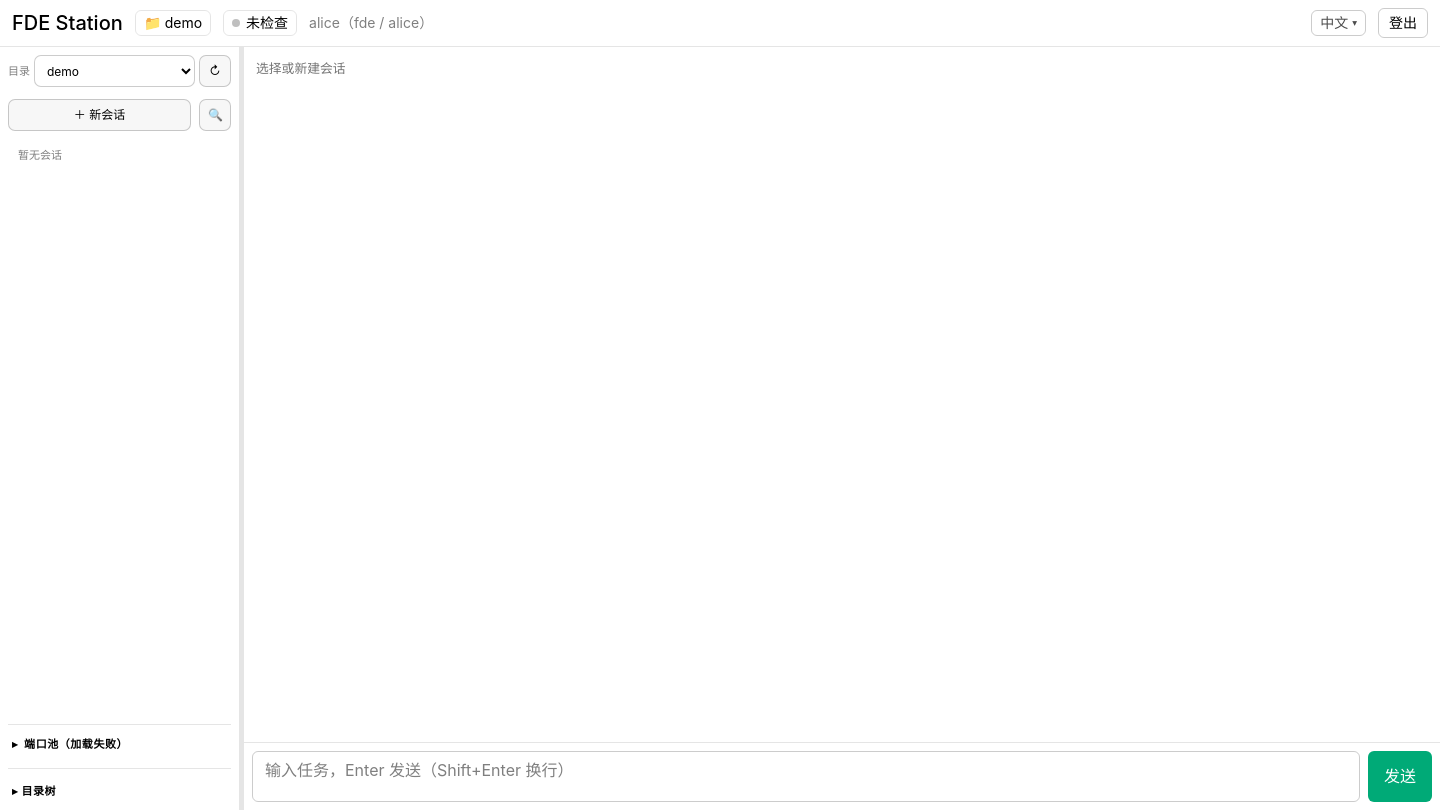
Test case: 工作台 · 预览端口区块 › 列表加载失败：折叠条标出「加载失败」，展开显示错误码 + 原文（重试按钮已退场）
The width and height of the screenshot is (1440, 810).
Click the button with test id "preview-ports-toggle".
click(120, 744)  # box [8,733,231,756]
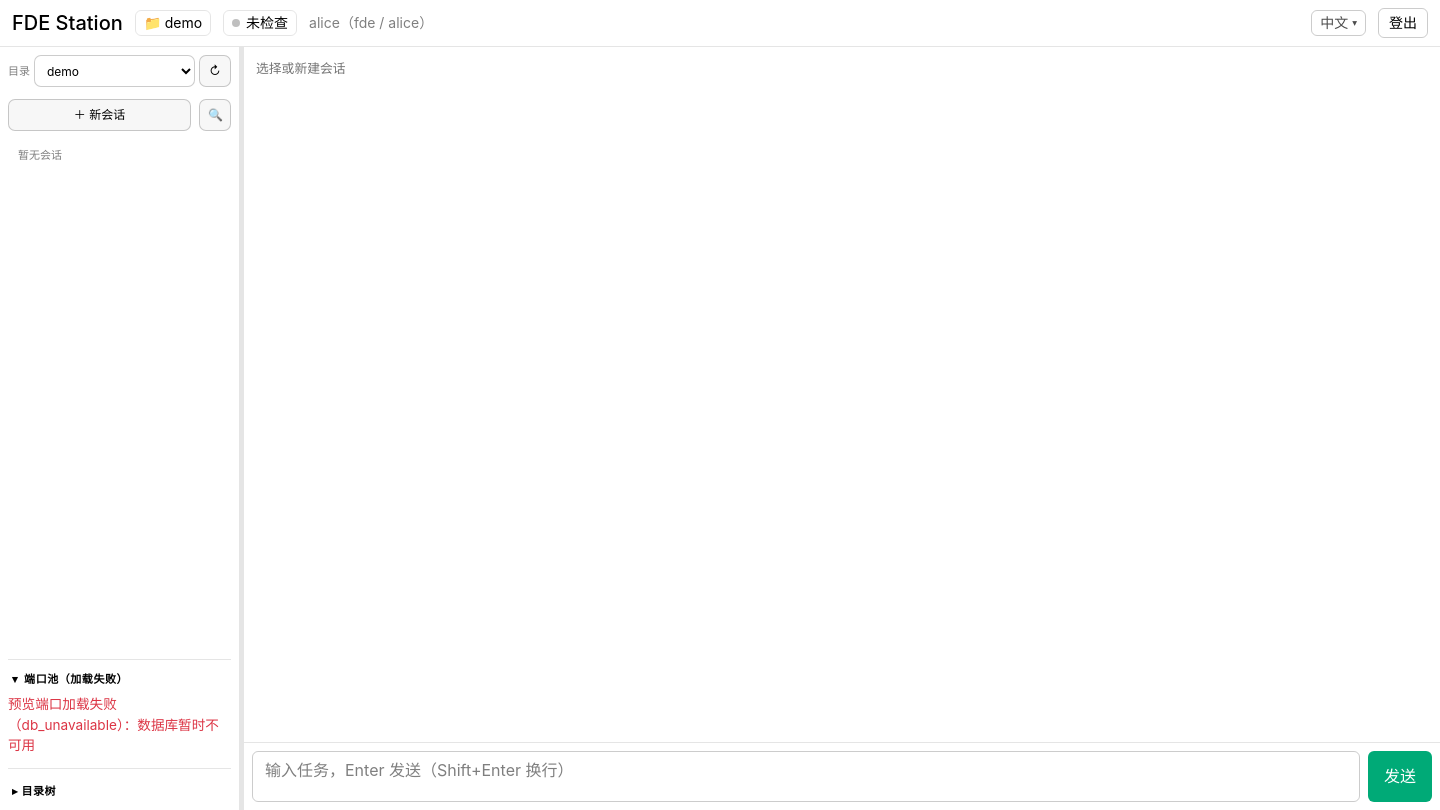
Expected: the message with test id "preview-ports-error" reads "预览端口加载失败（db_unavailable）：数据库暂时不可用", [8,696,219,753]
